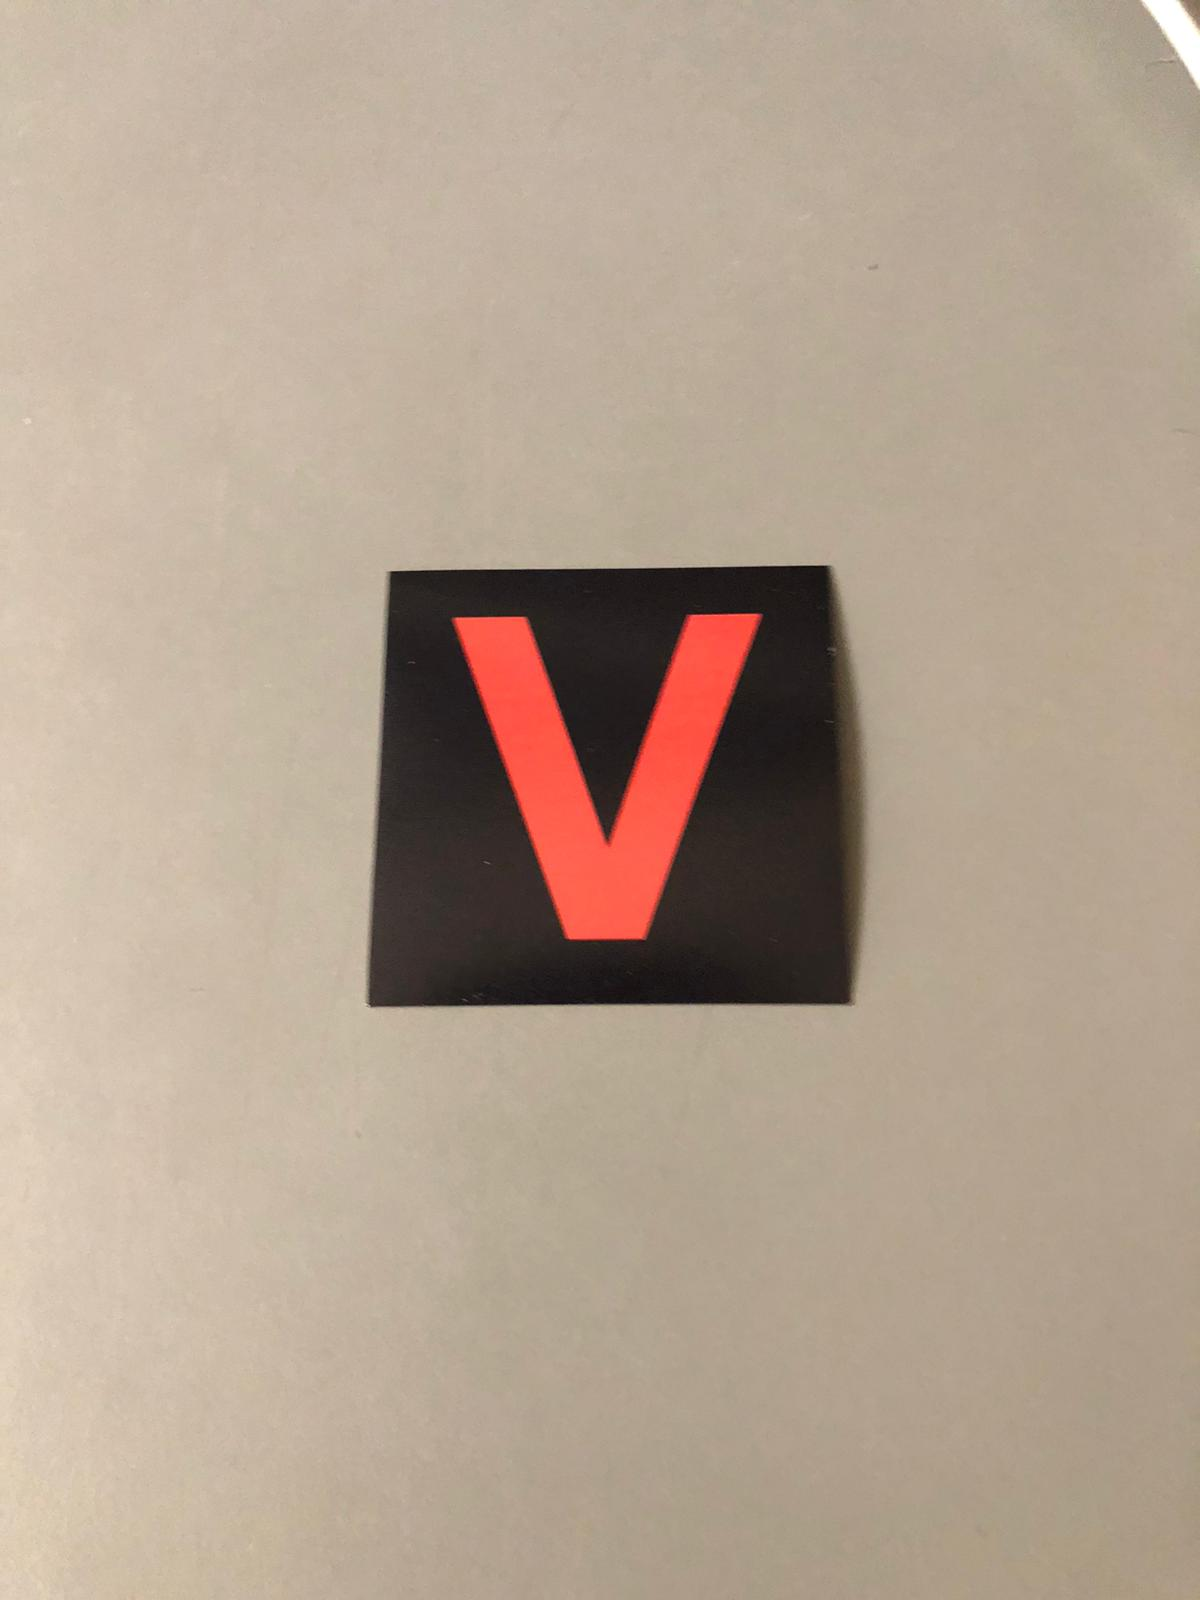V: (400, 585, 803, 976)
